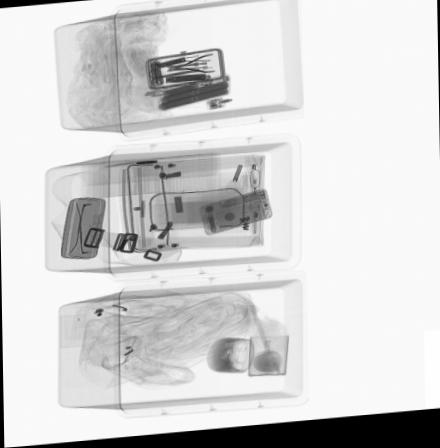Powerbank: (157, 75, 230, 114)
